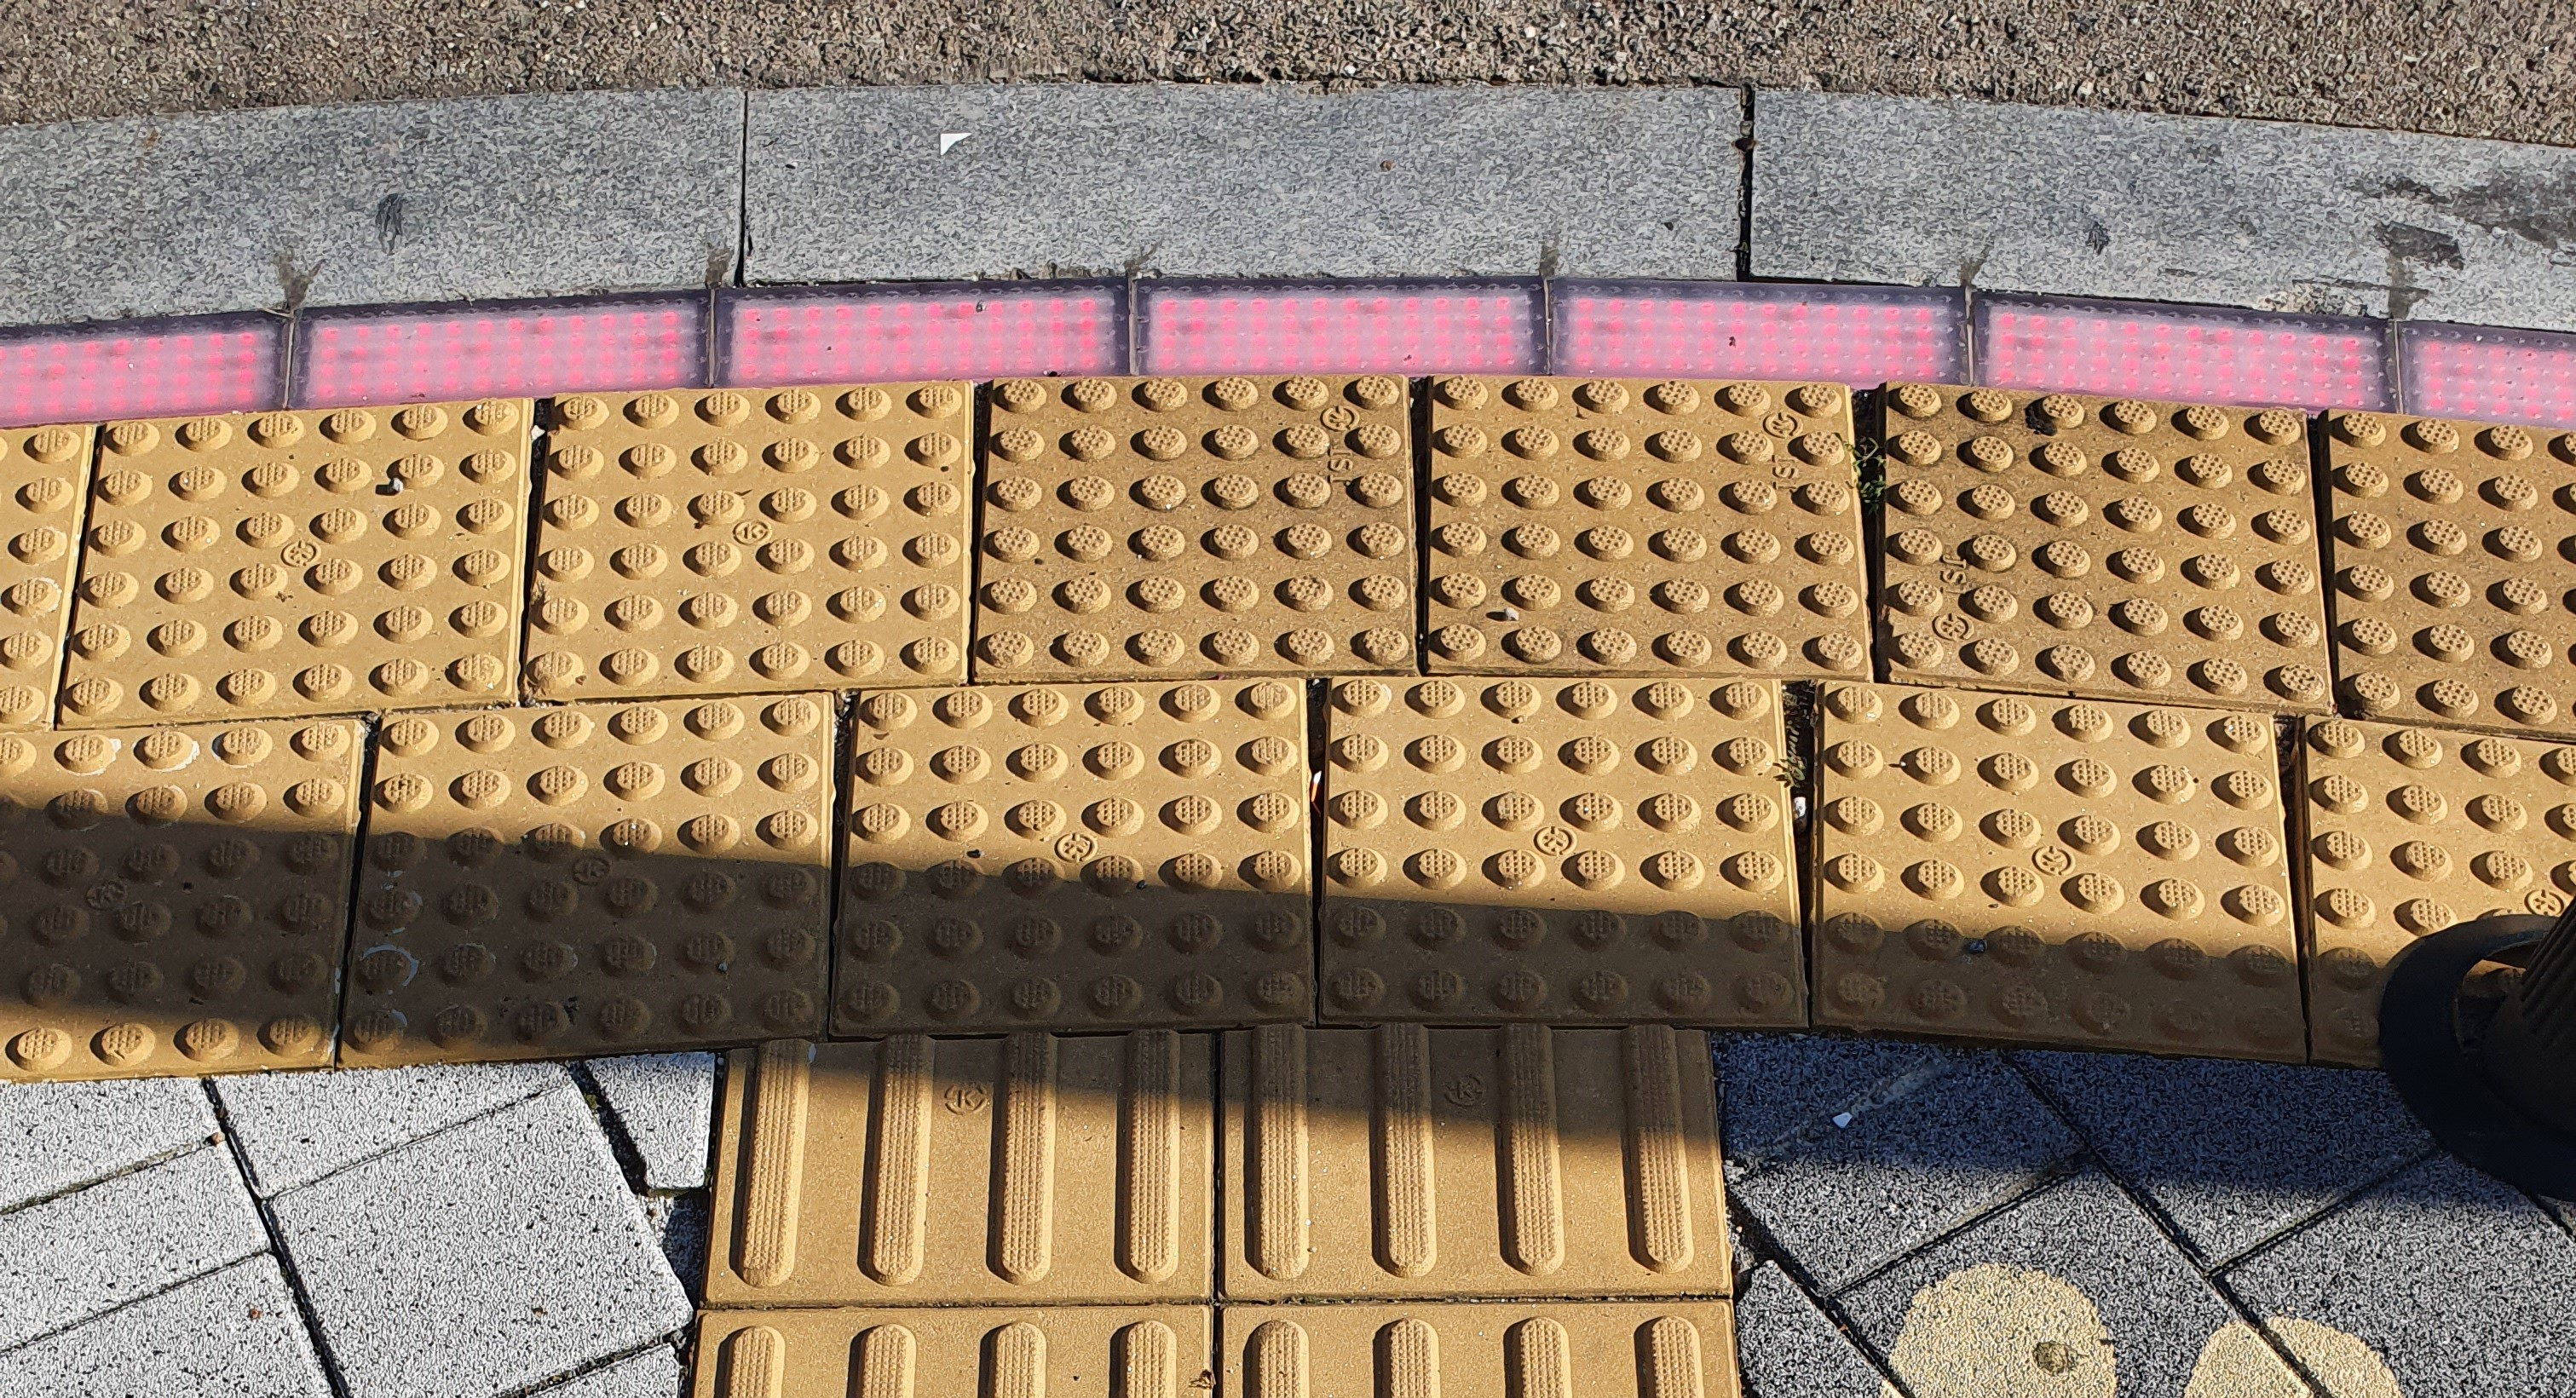guideBlock: (716, 1055, 1212, 1291), (1243, 1050, 1718, 1255)
warningBlock: (1775, 671, 2340, 1061), (1319, 685, 1794, 1023), (832, 699, 1305, 1011), (1441, 374, 1886, 678), (1899, 406, 2316, 728), (386, 727, 832, 1019), (976, 386, 1414, 671), (10, 723, 382, 1048), (532, 389, 942, 680), (2285, 740, 2576, 1097), (98, 446, 484, 673), (2337, 408, 2576, 708)
